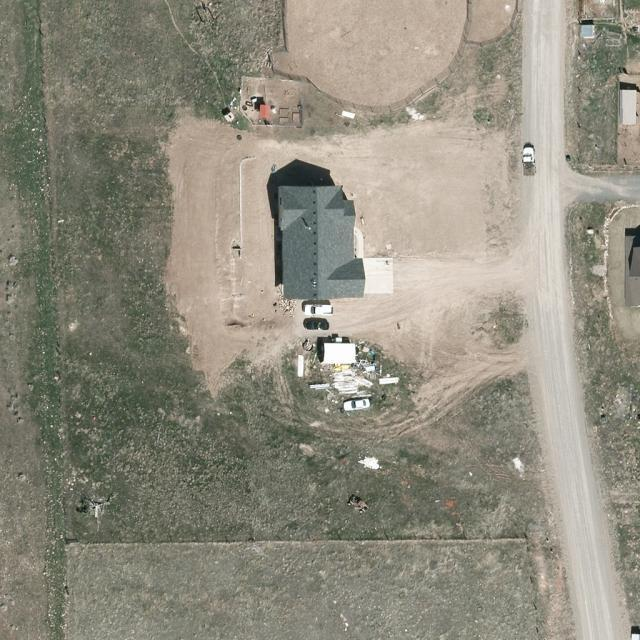vehicle: (342, 399, 372, 413), (523, 147, 536, 177), (302, 306, 334, 316), (303, 320, 329, 330)
